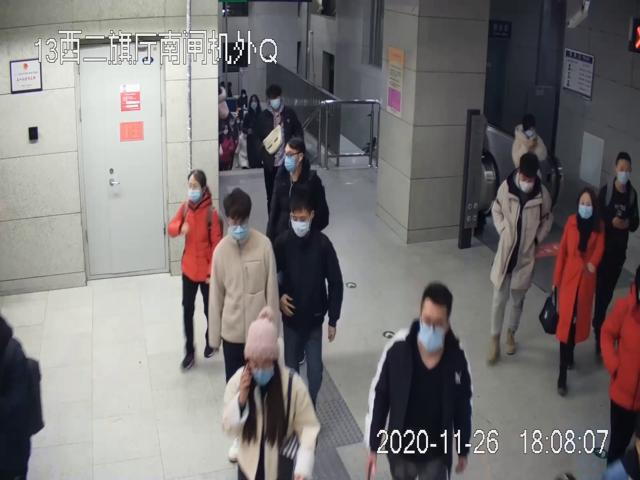person: (363, 279, 473, 479), (207, 188, 279, 464), (221, 309, 319, 480), (276, 188, 342, 411), (488, 152, 553, 357), (168, 170, 223, 371), (554, 188, 603, 394), (264, 134, 332, 238), (259, 85, 306, 220)
